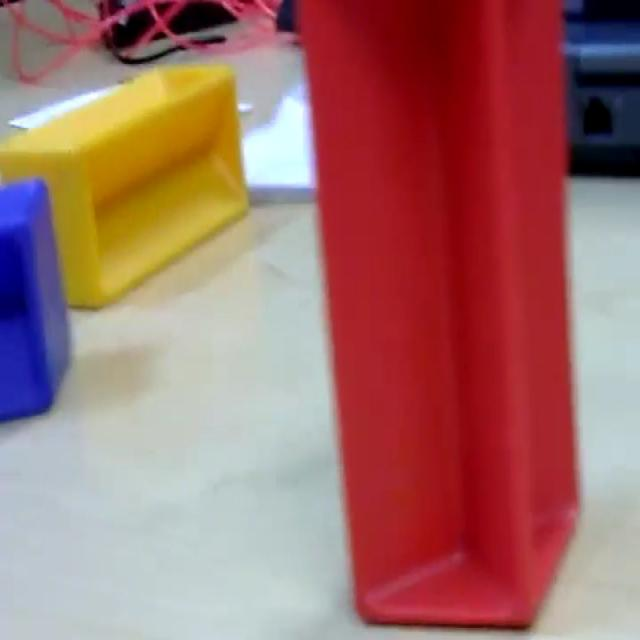blue_block: (0, 175, 71, 421)
red_block: (296, 0, 582, 628)
yellow_block: (1, 62, 249, 310)
